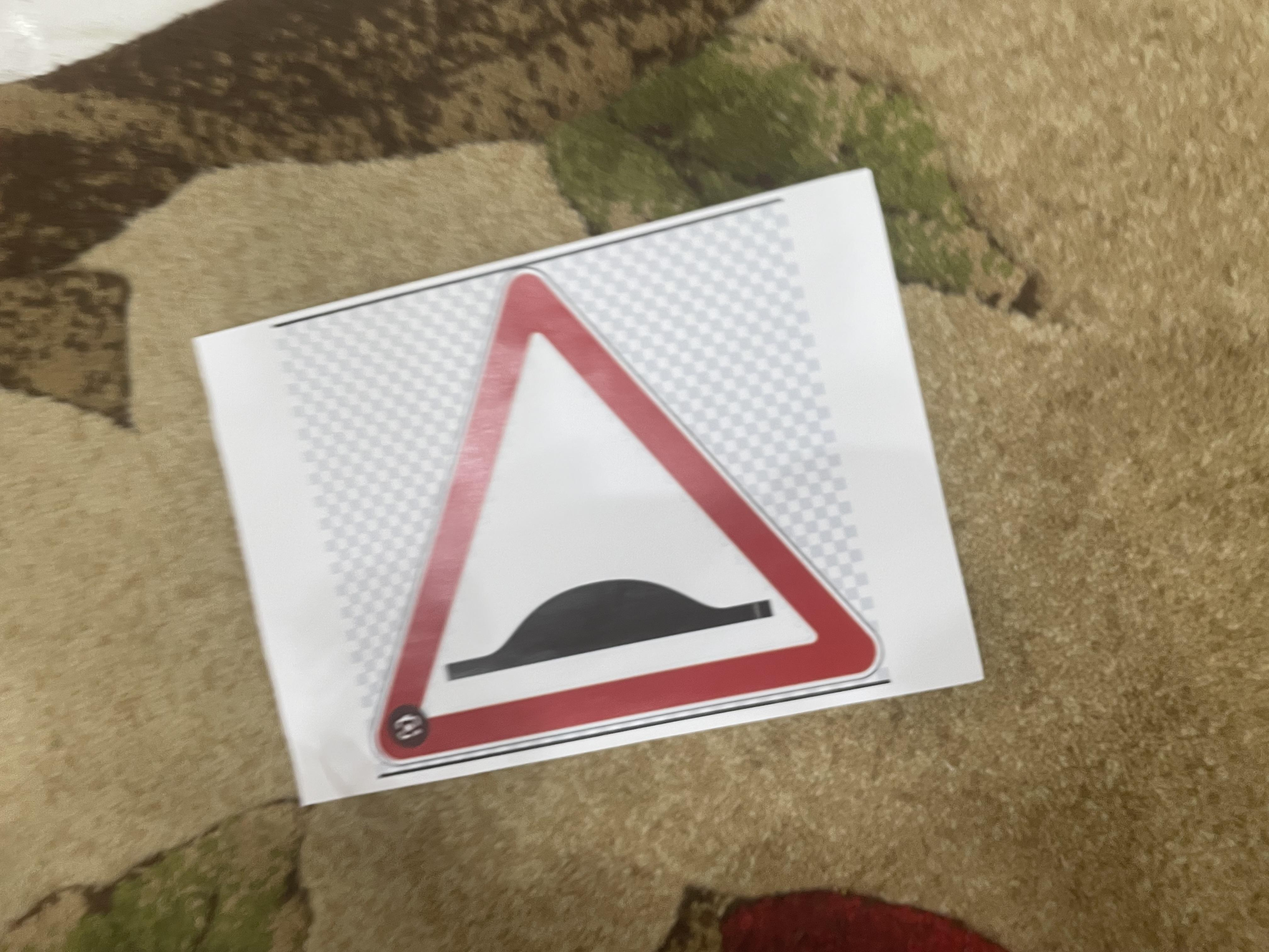Hump: (257, 272, 916, 662)
